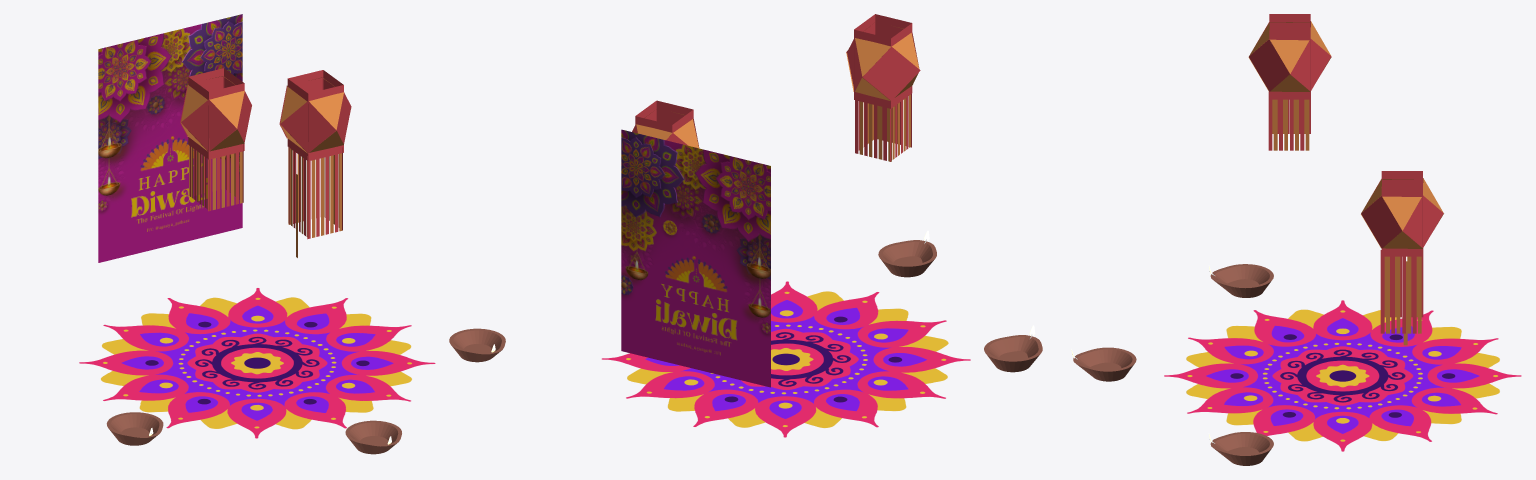
Rendered from Diwali_2.glb.
3 renders of one model, left to right at view 1: azimuth 30°, elevation 25°; view 2: azimuth 150°, elevation 25°; view 3: azimuth 270°, elevation 25°, orthographic. The views are drawn at different scales.
Parts seen in each view (by area): view 1: Rangoli, Pink Colorful Happy Diwali Festival Poster, Cube, Cube.001, Plane.044, Plane, Cylinder.006, Cylinder, Cylinder.003, Plane.047, Plane.002; view 2: Pink Colorful Happy Diwali Festival Poster, Rangoli, Cube, Cylinder.006, Cylinder.003, Plane.005, Cube.001, Plane.007; view 3: Rangoli, Cylinder.006, Cylinder, Cylinder.003, Cube, Cube.001, Plane.001, Plane.045, Plane.004, Plane.048, Plane.052, Plane.008.
Boxes of the visible parts, bbox=[...] form: Rangoli: bbox=[79, 288, 435, 438]; Pink Colorful Happy Diwali Festival Poster: bbox=[98, 14, 242, 262]; Cube: bbox=[188, 68, 244, 159]; Cube.001: bbox=[287, 70, 343, 161]; Plane.044: bbox=[280, 101, 335, 152]; Plane: bbox=[181, 99, 236, 151]; Cylinder.006: bbox=[345, 420, 401, 454]; Cylinder: bbox=[449, 328, 505, 362]; Cylinder.003: bbox=[106, 412, 163, 445]; Plane.047: bbox=[309, 92, 343, 129]; Plane.002: bbox=[209, 90, 244, 128]; Pink Colorful Happy Diwali Festival Poster: bbox=[621, 129, 770, 387]; Rangoli: bbox=[602, 281, 970, 437]; Cube: bbox=[854, 14, 912, 108]; Cylinder.006: bbox=[878, 240, 936, 277]; Cylinder.003: bbox=[984, 335, 1042, 372]; Plane.005: bbox=[863, 46, 920, 100]; Cube.001: bbox=[635, 100, 693, 136]; Plane.007: bbox=[855, 38, 890, 76]; Rangoli: bbox=[1164, 300, 1521, 451]; Cylinder.006: bbox=[1073, 347, 1136, 381]; Cylinder: bbox=[1210, 432, 1273, 465]; Cylinder.003: bbox=[1210, 264, 1273, 297]; Cube: bbox=[1269, 14, 1310, 99]; Cube.001: bbox=[1381, 171, 1422, 256]; Plane.001: bbox=[1249, 39, 1289, 91]; Plane.045: bbox=[1361, 196, 1402, 248]; Plane.004: bbox=[1290, 39, 1331, 90]; Plane.048: bbox=[1403, 195, 1443, 247]; Plane.052: bbox=[1382, 196, 1421, 230]; Plane.008: bbox=[1269, 39, 1309, 73].
Bounding box in the file's own units: 21.97 × 17.09 × 21.78.
6 materials, 2 textured.
